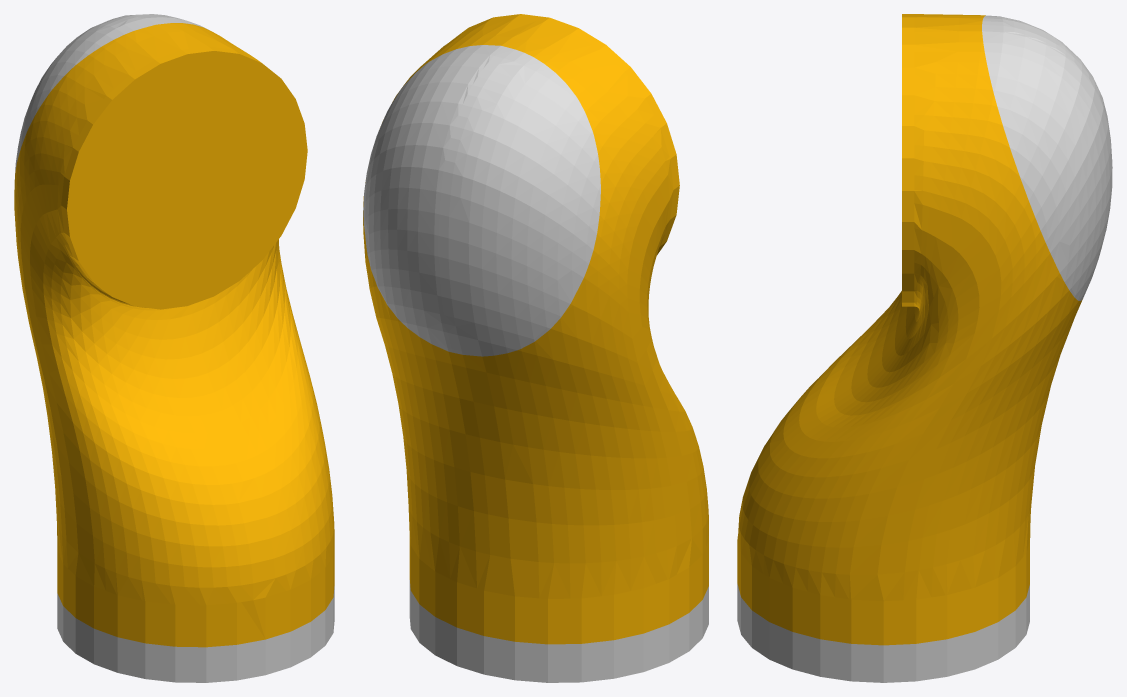
The picture shows the model from 3 angles, left to right: view 1: azimuth 30°, elevation 25°; view 2: azimuth 150°, elevation 25°; view 3: azimuth 270°, elevation 25°; orthographic projection. The views are drawn at different scales.
Parts seen in each view (by area): view 1: link_3; view 2: link_3; view 3: link_3.
Boxes of the visible parts, x1=… form: link_3: x1=14, y1=14, x2=334, y2=682; link_3: x1=363, y1=14, x2=708, y2=682; link_3: x1=737, y1=14, x2=1112, y2=682.
Size of the model in its own units: 0.12 by 0.1538 by 0.2685.
